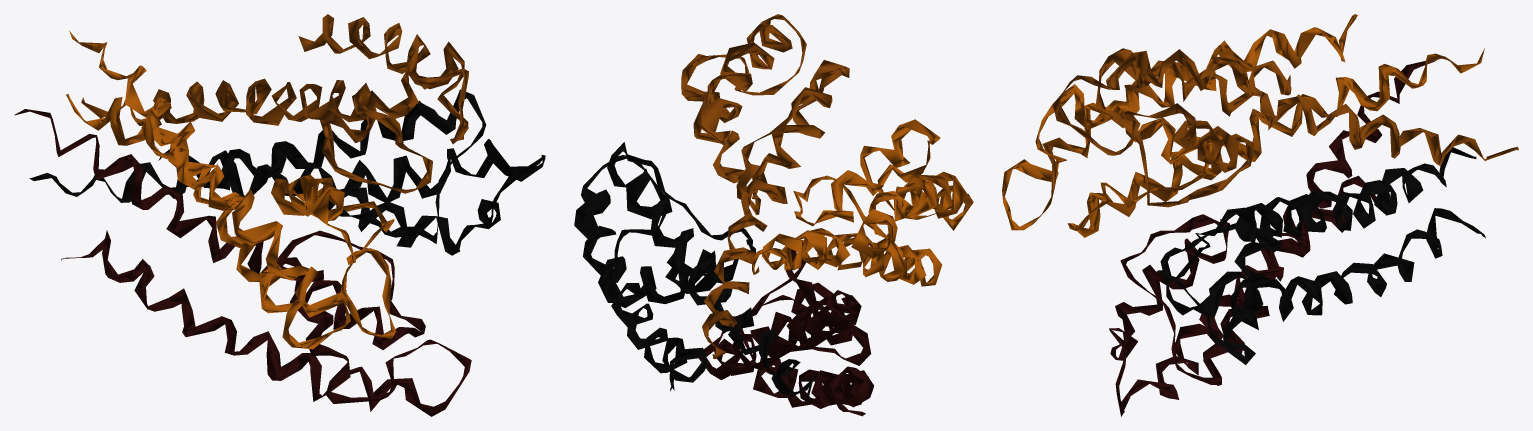
Rendered from ribbon-test2-collapsed.obj.
3 renders of one model, left to right at view 1: azimuth 30°, elevation 25°; view 2: azimuth 150°, elevation 25°; view 3: azimuth 270°, elevation 25°, orthographic. The views are drawn at different scales.
Size of the model in its own units: 1.31 by 1.15 by 1.48.
